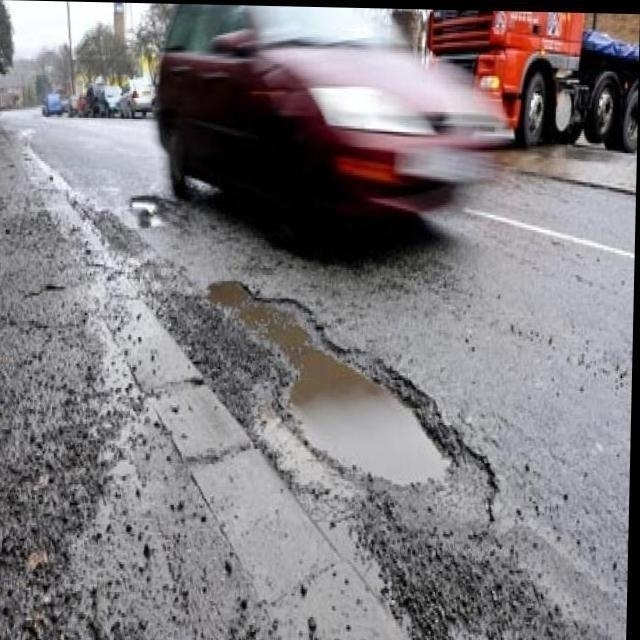pothole: (207, 267, 457, 485), (110, 188, 172, 237)
